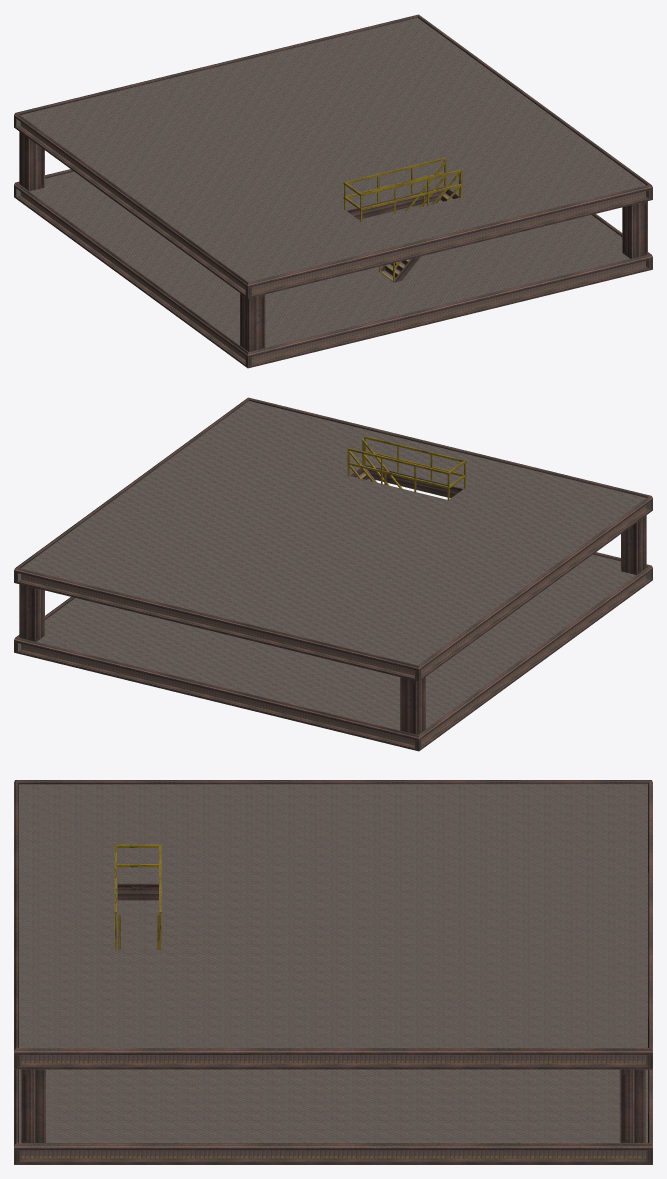
Rendered from OPLT01C.glb.
3 renders of one model, top to bottom at view 1: azimuth 30°, elevation 25°; view 2: azimuth 150°, elevation 25°; view 3: azimuth 270°, elevation 25°, orthographic. The views are drawn at different scales.
Visible parts, largest first — view 1: _OPLT01C; view 2: _OPLT01C; view 3: _OPLT01C.
Boxes of the visible parts, x1,y1,x2,y2 form: _OPLT01C: (14, 14, 652, 368); _OPLT01C: (14, 397, 652, 751); _OPLT01C: (14, 780, 652, 1164).
Size of the model in its own units: 25 by 6.49 by 25.
Materials: 6 (6 with a texture image).
